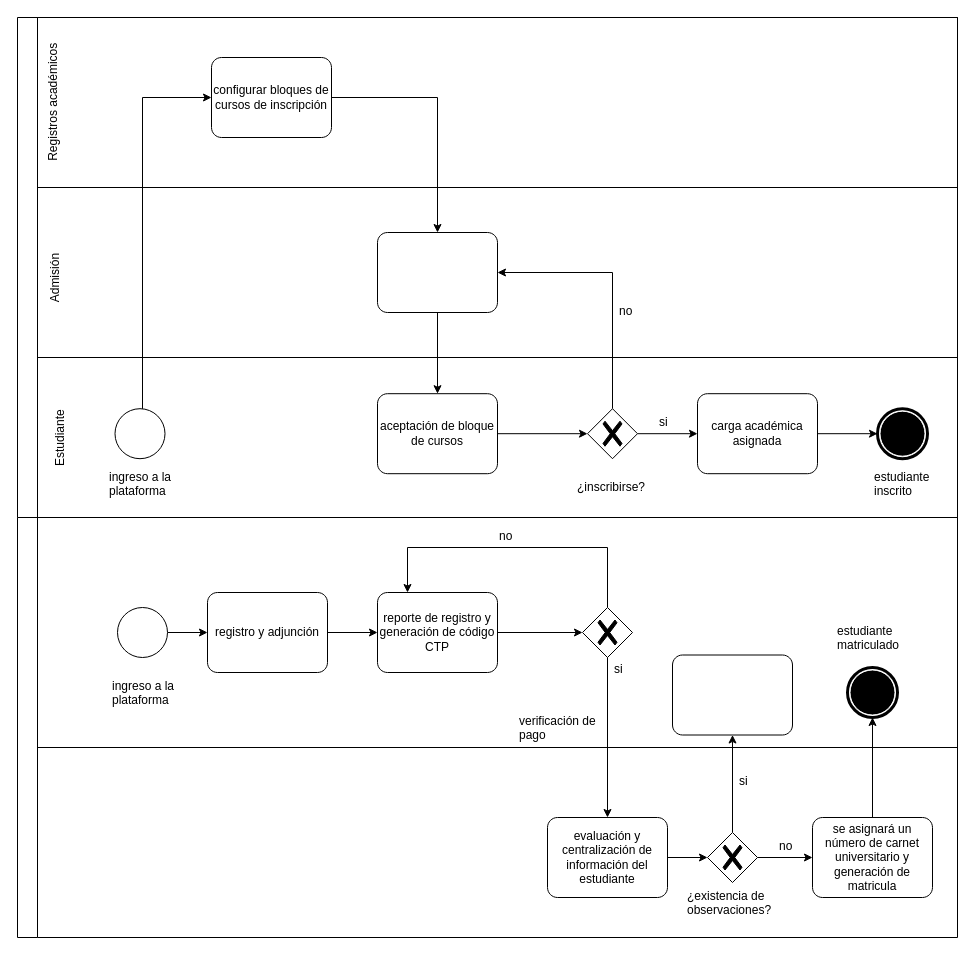
The diagram is 975 pixels wide and 955 high, and some of its shapes have lost their labels. The shapes that lost their labels are listed below. From the top down, each one's box as (x1, y1, x2, y2) in pixels, then its label:
(376, 232, 498, 312): asignación de bloque de cursos
(16, 16, 958, 518): inscripción a cursos de alumnos nuevos
(672, 654, 792, 735): lista de observaciones
(16, 516, 958, 938): matriculacion de alumnos nuevos
